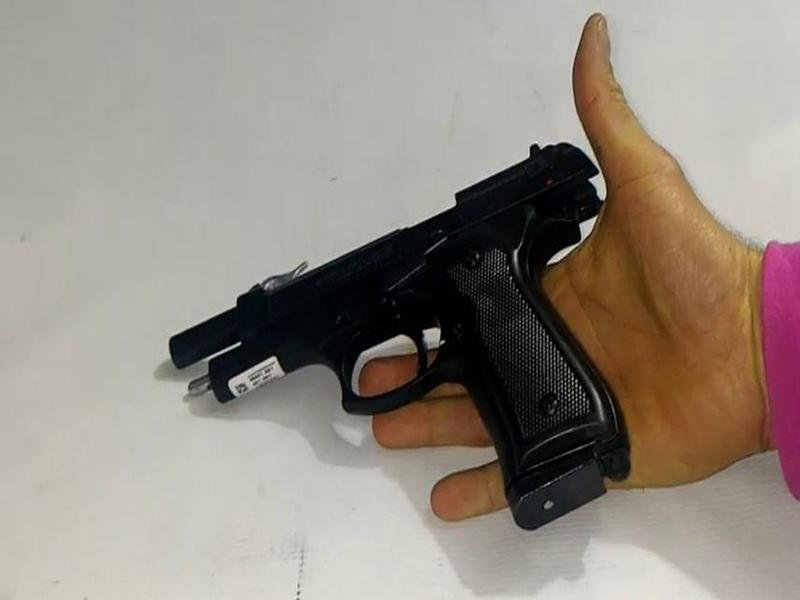Pistola: (162, 122, 692, 551)
